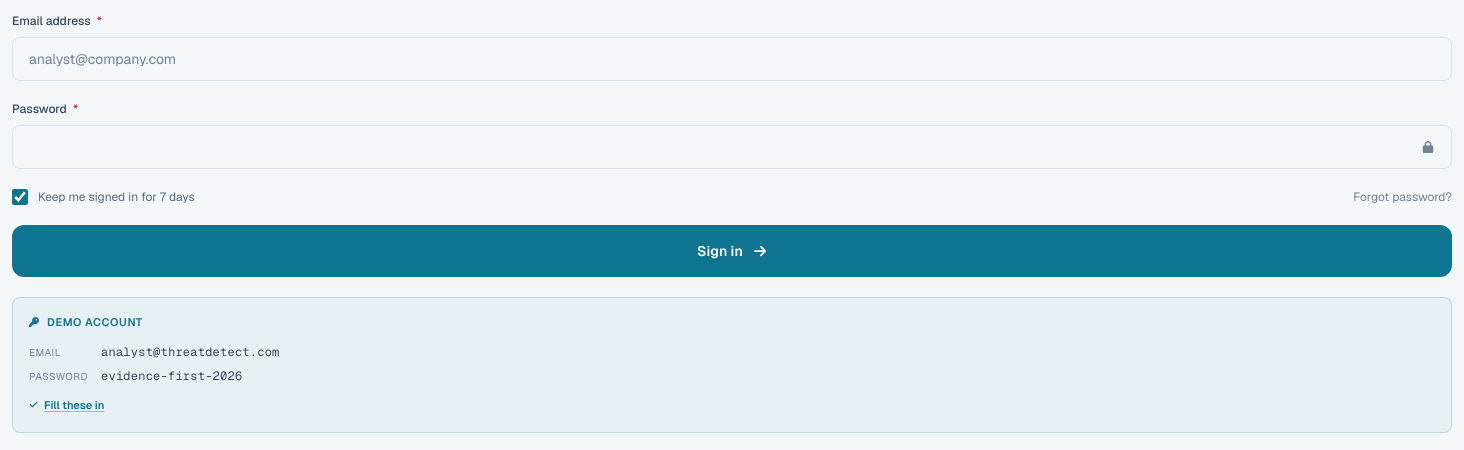
Test: LoginForm › shows the demo credentials and can fill them in
Expected: the text "analyst@threatdetect.com" is shown, [101, 342, 280, 360]
Expected: the text "evidence-first-2026" is shown, [101, 366, 242, 384]
Click the button "Fill these in": (67, 405) [29, 396, 104, 413]
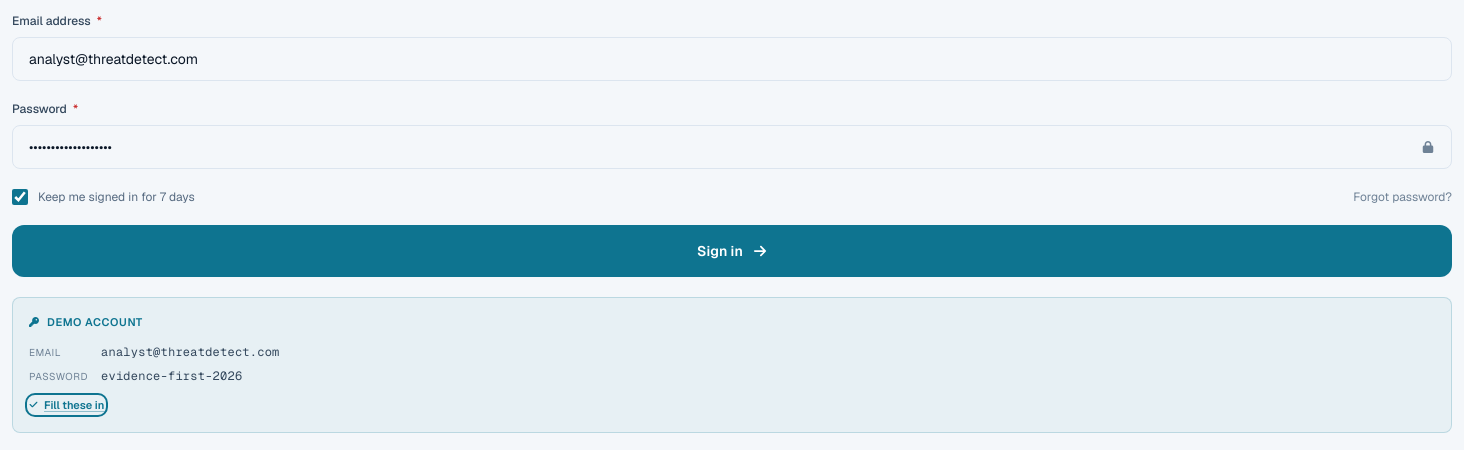
Now the field labelled "Email address *" holds "analyst@threatdetect.com", box [12, 37, 1452, 81]
Now the password field labelled "Password *" holds "evidence-first-2026", box [12, 125, 1452, 169]
